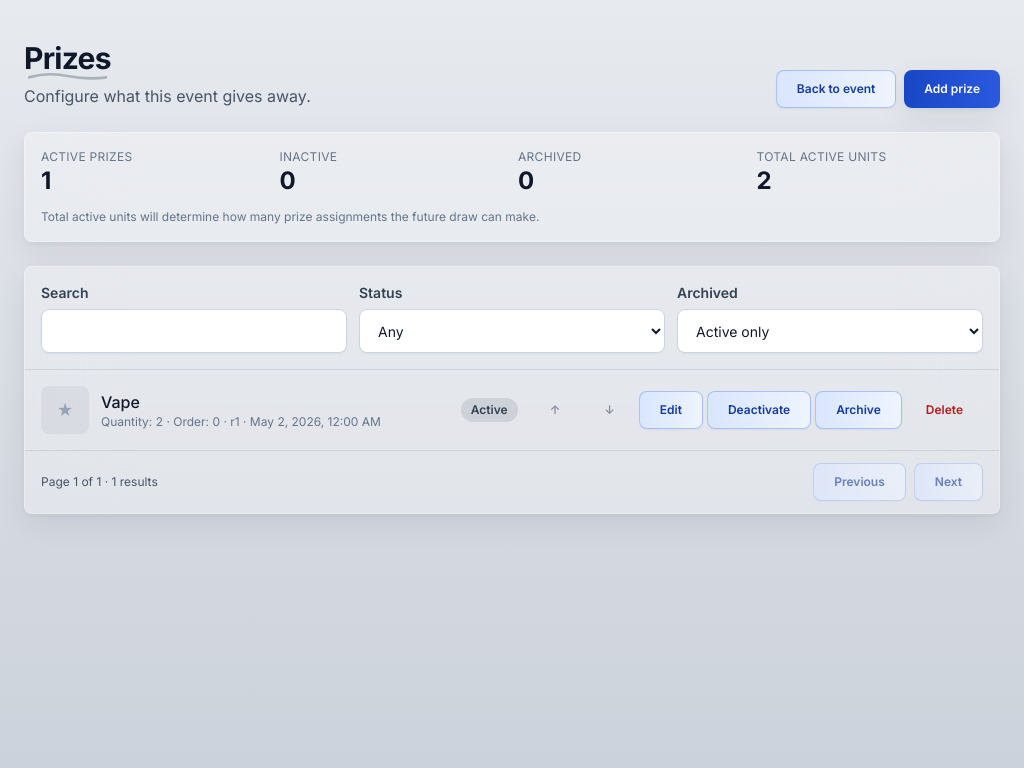
Test: status actions and delete › surfaces a revision conflict
The width and height of the screenshot is (1024, 768).
Click the button "Deactivate". click: [759, 410]
box: left=707, top=391, right=811, bottom=429
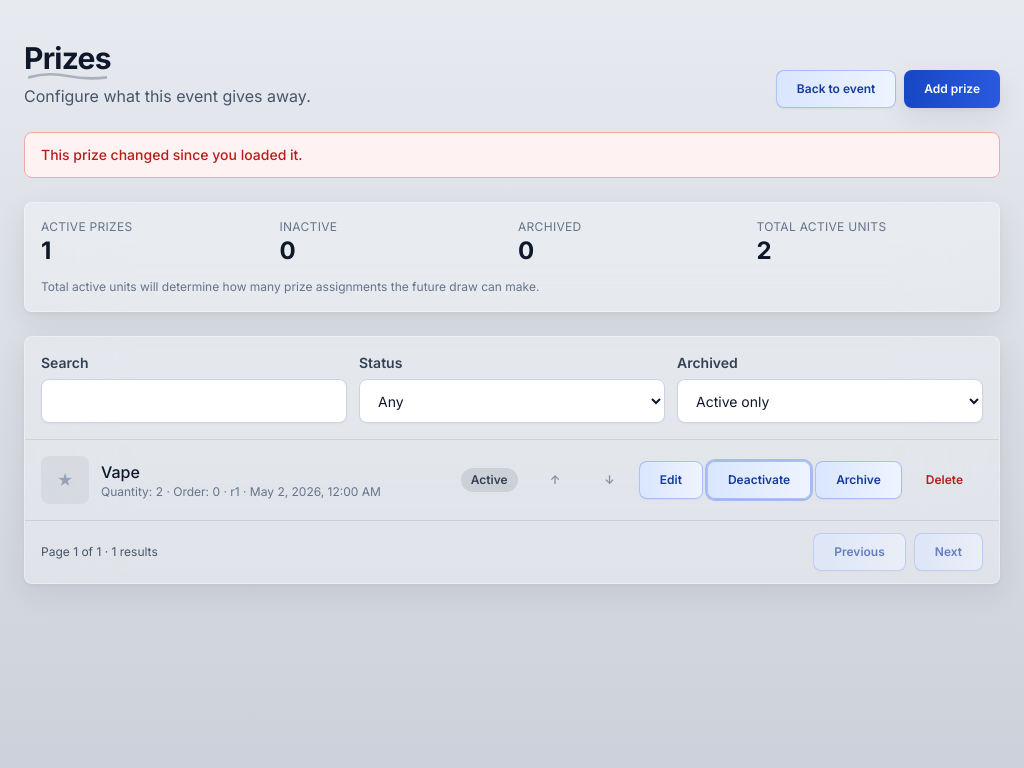
Check: the text "This prize changed since you loaded it." is shown, box left=24, top=132, right=1000, bottom=178
